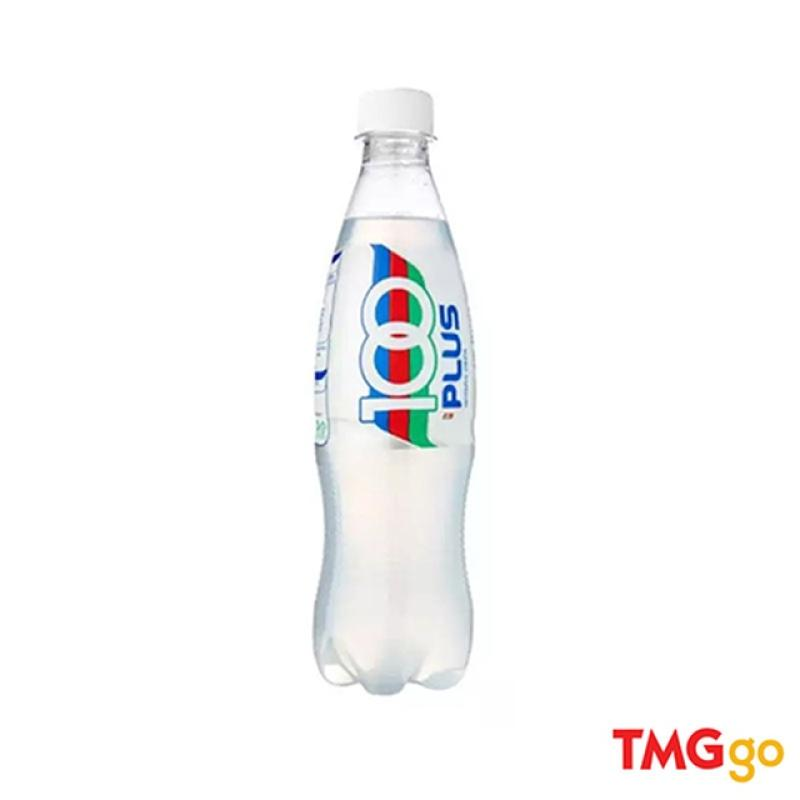botella: (306, 76, 475, 701)
